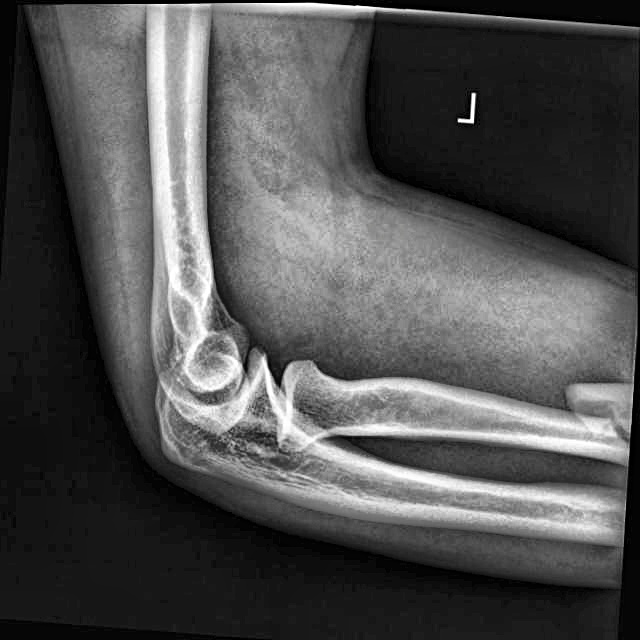Spiral: (562, 364, 632, 464)
